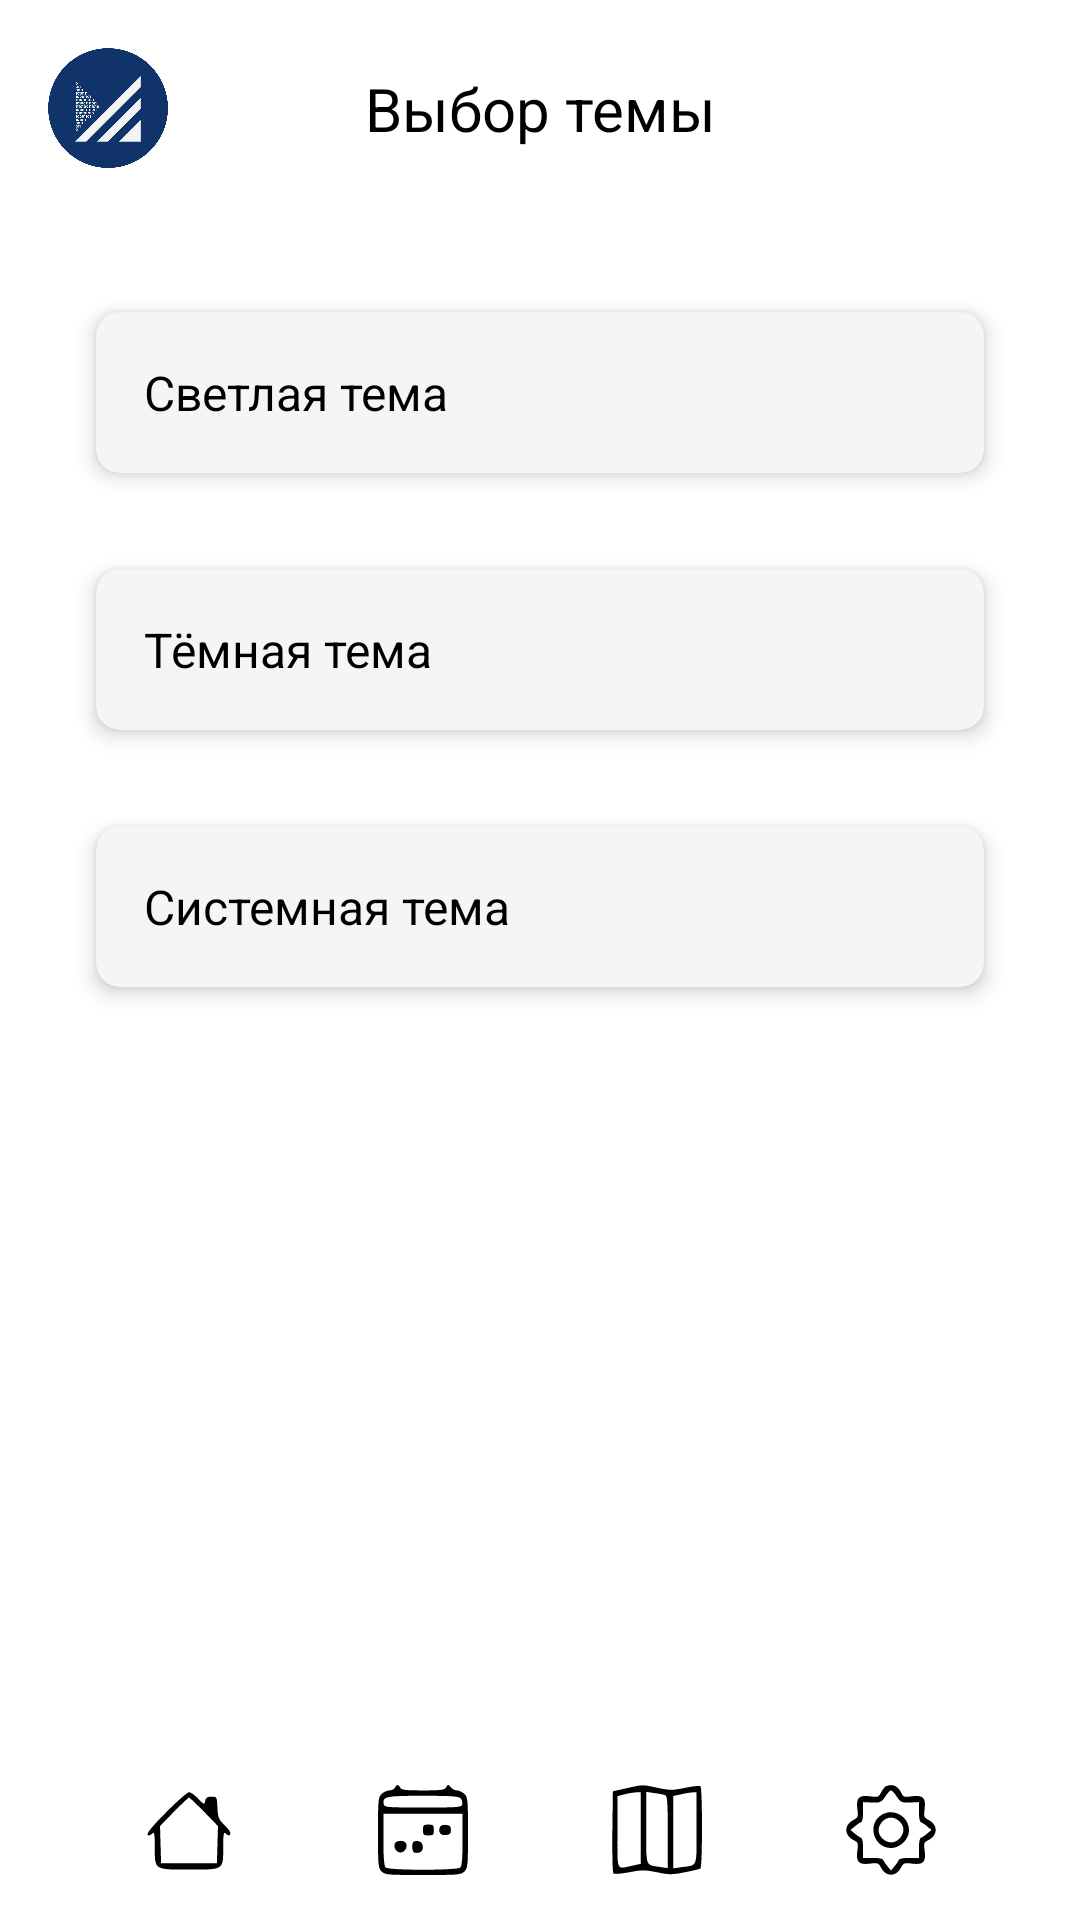

Named icons in this screenshot (1080px×1920px) and their bounding boxes, box=[x1, y1, x2, y2]:
calendar: box=[378, 1785, 468, 1875]
home: box=[147, 1792, 231, 1870]
map: box=[612, 1785, 702, 1875]
settings: box=[846, 1785, 936, 1875]
